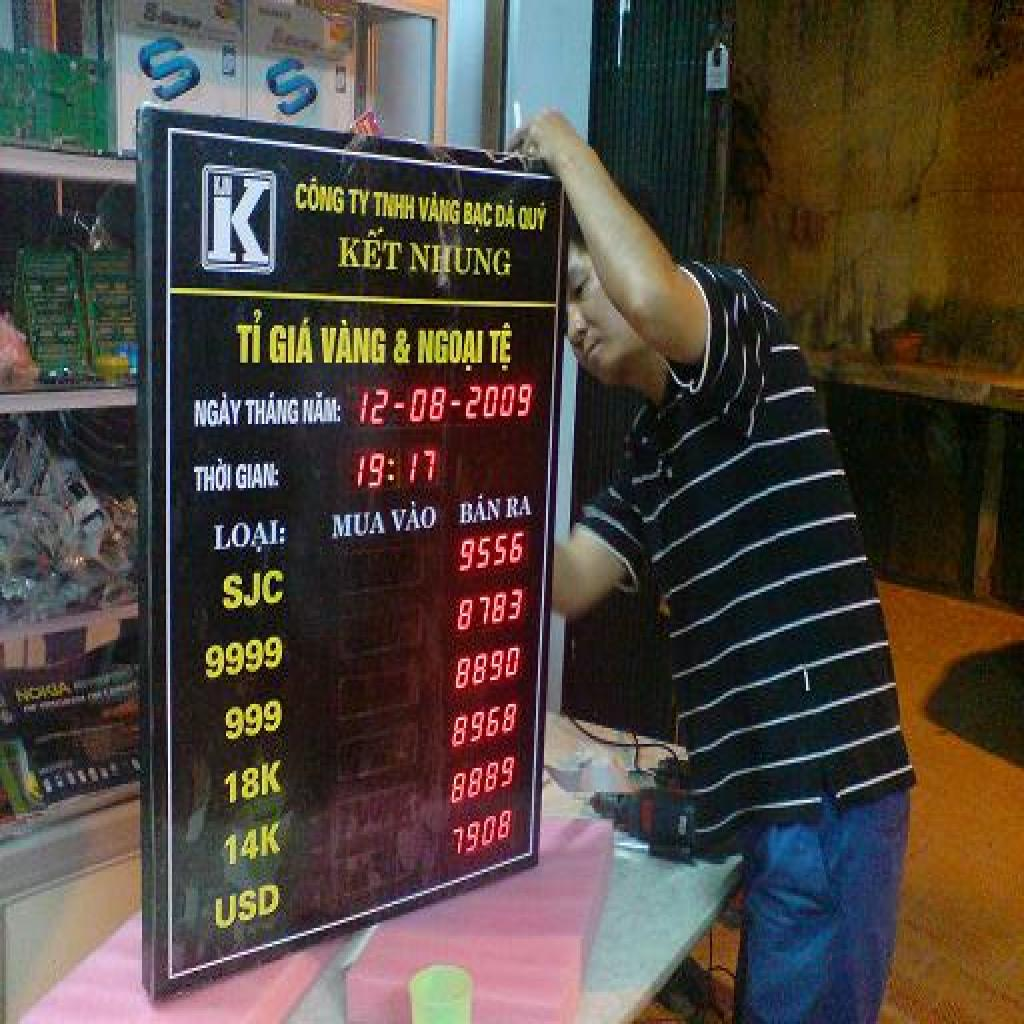text: (194, 157, 282, 275), (132, 35, 204, 109), (202, 632, 286, 688), (406, 240, 514, 283), (210, 877, 286, 936), (262, 56, 324, 123), (452, 642, 524, 698), (448, 754, 518, 810), (318, 317, 390, 371), (336, 221, 406, 275), (208, 515, 292, 560), (456, 528, 530, 579), (218, 565, 290, 616), (448, 808, 516, 861), (414, 323, 486, 373), (220, 757, 290, 808), (456, 586, 526, 634), (224, 819, 286, 872), (224, 696, 288, 747), (464, 379, 536, 424), (452, 702, 518, 750), (266, 314, 316, 370), (232, 304, 268, 376), (292, 173, 348, 219), (192, 389, 246, 432), (244, 390, 302, 430), (352, 448, 398, 493), (330, 507, 390, 541), (406, 382, 448, 430), (232, 456, 282, 496), (418, 189, 464, 232), (456, 490, 504, 530), (300, 389, 344, 432), (190, 456, 234, 499), (388, 501, 442, 536), (372, 187, 418, 224), (488, 320, 518, 376), (356, 384, 390, 432), (408, 442, 442, 490), (14, 677, 74, 704), (462, 197, 496, 240), (516, 200, 554, 237), (390, 317, 414, 371), (346, 181, 372, 219), (504, 490, 534, 522), (494, 200, 520, 232)
